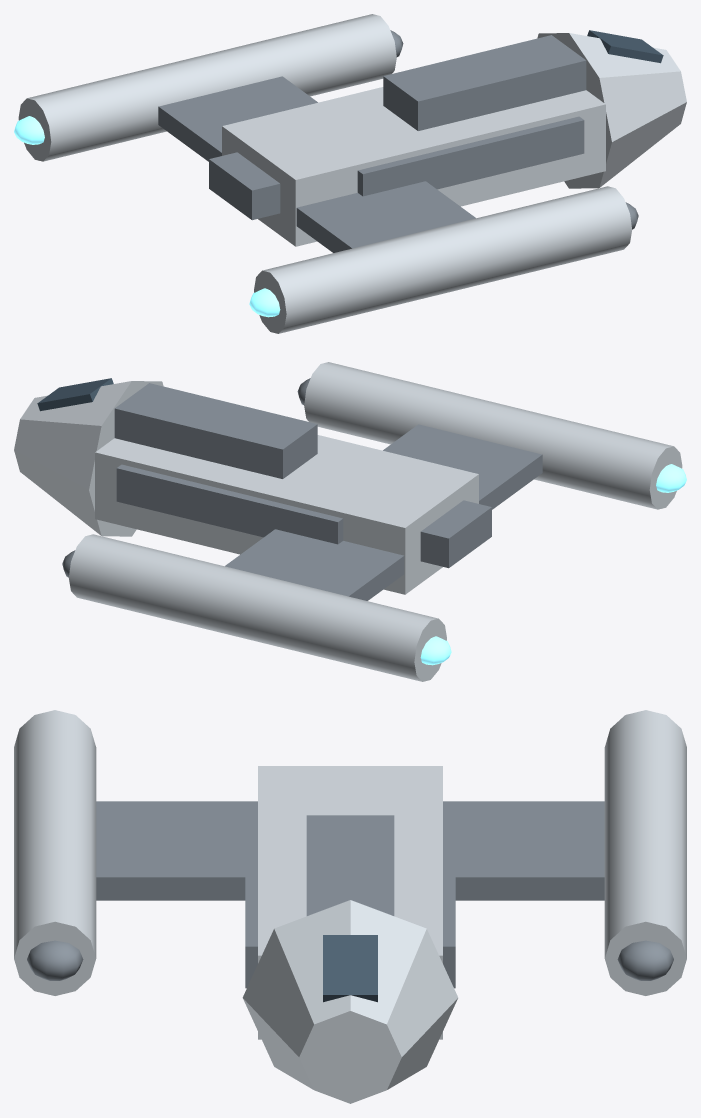
The model's file is ship.glb.
The picture shows the model from 3 angles, top to bottom: view 1: azimuth 30°, elevation 25°; view 2: azimuth 150°, elevation 25°; view 3: azimuth 270°, elevation 25°; orthographic projection. The views are drawn at different scales.
Parts seen in each view (by area): view 1: ship_nacelle_right, ship_hull_main, ship_nacelle_left, ship_bridge_hump, ship_nose_module, ship_side_panel_right, ship_nacelle_pylon_right, ship_nacelle_pylon_left, ship_impulse_block, ship_cockpit_window, ship_nacelle_glow_right, ship_nacelle_glow_left; view 2: ship_nacelle_left, ship_hull_main, ship_nacelle_right, ship_bridge_hump, ship_nose_module, ship_side_panel_left, ship_nacelle_pylon_left, ship_nacelle_pylon_right, ship_impulse_block, ship_cockpit_window, ship_nacelle_glow_left, ship_nacelle_glow_right; view 3: ship_nose_module, ship_nacelle_left, ship_nacelle_right, ship_hull_main, ship_nacelle_pylon_left, ship_nacelle_pylon_right, ship_bridge_hump, ship_cockpit_window, ship_side_panel_left, ship_side_panel_right, ship_nacelle_cap_left, ship_nacelle_cap_right.
Part boxes in pixels (<box>): ship_nacelle_right: <box>254,186,631,333</box>; ship_hull_main: <box>222,87,605,246</box>; ship_nacelle_left: <box>18,14,396,161</box>; ship_bridge_hump: <box>383,35,586,130</box>; ship_nose_module: <box>537,33,686,188</box>; ship_side_panel_right: <box>357,116,584,196</box>; ship_nacelle_pylon_right: <box>296,181,475,252</box>; ship_nacelle_pylon_left: <box>158,76,317,161</box>; ship_impulse_block: <box>209,152,280,220</box>; ship_cockpit_window: <box>587,30,663,63</box>; ship_nacelle_glow_right: <box>249,288,280,317</box>; ship_nacelle_glow_left: <box>14,116,44,144</box>; ship_nacelle_left: <box>69,534,446,681</box>; ship_hull_main: <box>95,435,478,594</box>; ship_nacelle_right: <box>304,362,682,509</box>; ship_bridge_hump: <box>114,383,317,478</box>; ship_nose_module: <box>14,381,163,536</box>; ship_side_panel_left: <box>116,464,343,544</box>; ship_nacelle_pylon_left: <box>225,529,404,600</box>; ship_nacelle_pylon_right: <box>383,424,542,509</box>; ship_impulse_block: <box>420,500,491,568</box>; ship_cockpit_window: <box>37,378,113,411</box>; ship_nacelle_glow_left: <box>420,636,451,665</box>; ship_nacelle_glow_right: <box>656,464,686,492</box>; ship_nose_module: <box>242,900,458,1103</box>; ship_nacelle_left: <box>604,710,686,995</box>; ship_nacelle_right: <box>14,710,96,995</box>; ship_hull_main: <box>258,766,442,1039</box>; ship_nacelle_pylon_left: <box>443,801,604,900</box>; ship_nacelle_pylon_right: <box>96,801,257,900</box>; ship_bridge_hump: <box>306,815,394,915</box>; ship_cockpit_window: <box>323,935,377,1002</box>; ship_side_panel_left: <box>443,810,455,988</box>; ship_side_panel_right: <box>245,810,257,988</box>; ship_nacelle_cap_left: <box>617,940,673,980</box>; ship_nacelle_cap_right: <box>27,940,83,980</box>.
Size of the model in its own units: 3 by 0.84 by 2.62.
